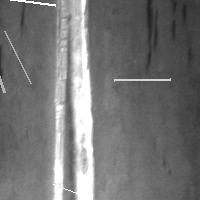scratches: (50, 1, 95, 199), (0, 26, 36, 88), (144, 1, 161, 71), (0, 0, 9, 97), (48, 179, 87, 200), (109, 74, 175, 85), (170, 1, 187, 39), (0, 0, 60, 10), (18, 1, 29, 27)
